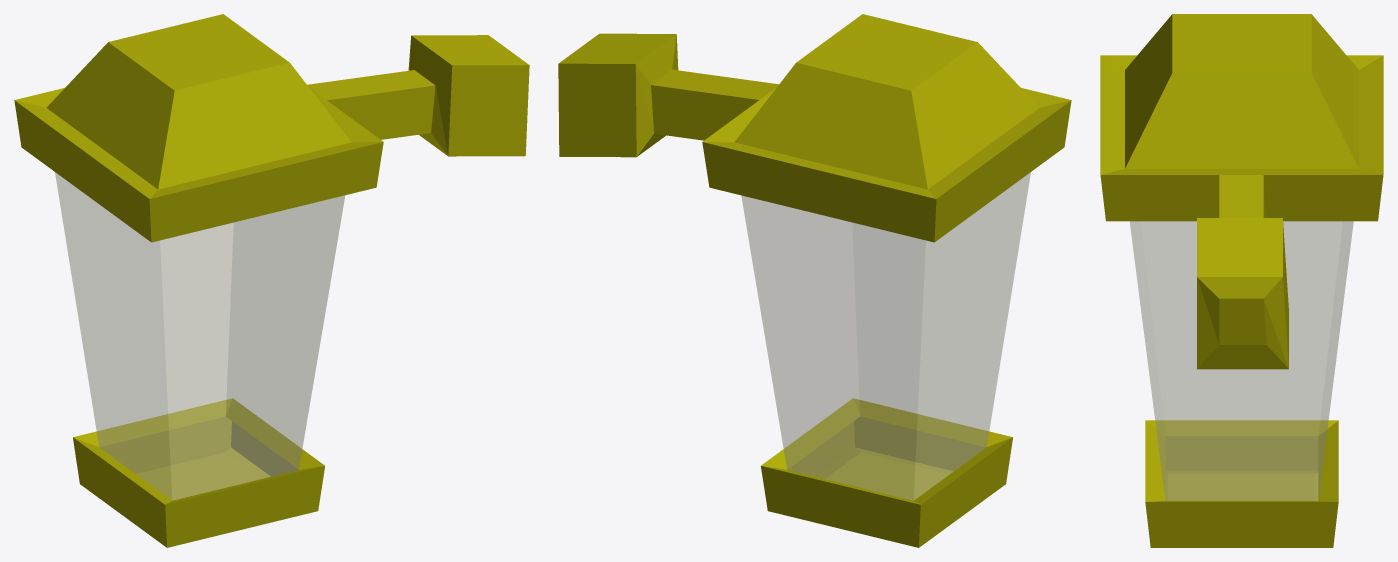
The model's file is lamp.fbx.
3 views of the same model, side by side, from view 1: azimuth 30°, elevation 25°; view 2: azimuth 150°, elevation 25°; view 3: azimuth 270°, elevation 25° (orthographic). The views are drawn at different scales.
Parts seen in each view (by area): view 1: lamp; view 2: lamp; view 3: lamp.
Boxes of the visible parts, x1,y1,x2,y2 form: lamp: (14, 14, 529, 547); lamp: (558, 14, 1071, 547); lamp: (1100, 14, 1383, 547).
Bounding box in the file's own units: 2.24 × 2.2 × 1.21.
